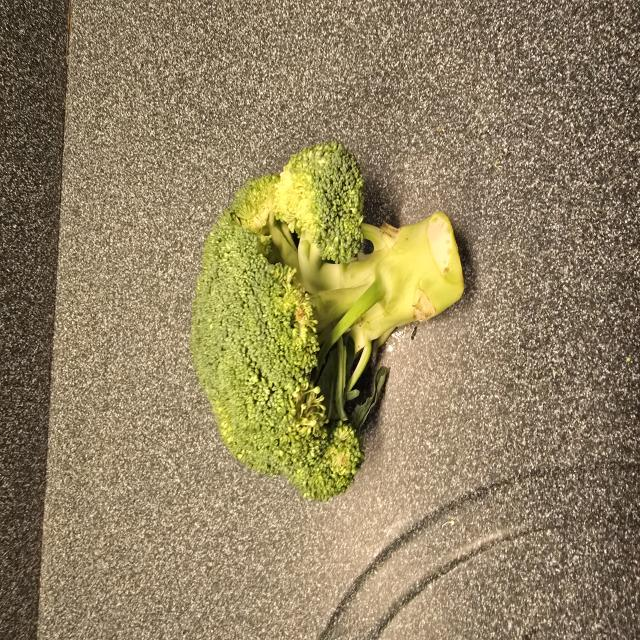Broccoli: (183, 121, 477, 520)
